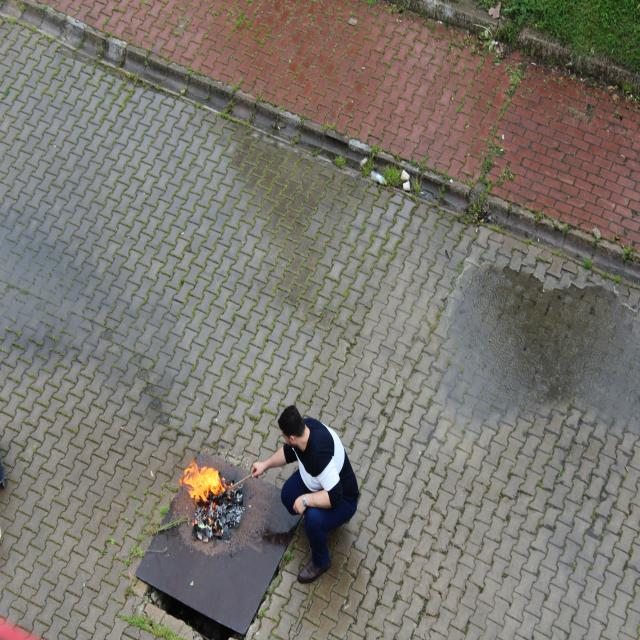fire: (176, 452, 224, 510)
